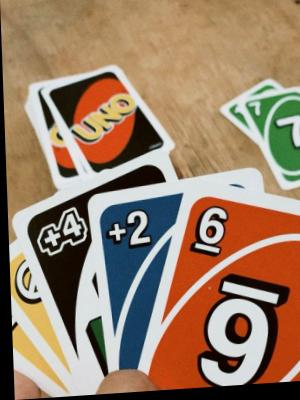-2: (100, 203, 157, 255)
blue: (51, 163, 179, 373)
num_6: (191, 268, 295, 390), (182, 200, 235, 268)
num_7: (271, 113, 300, 156)
red: (135, 186, 300, 393)
skip: (8, 256, 42, 309)
